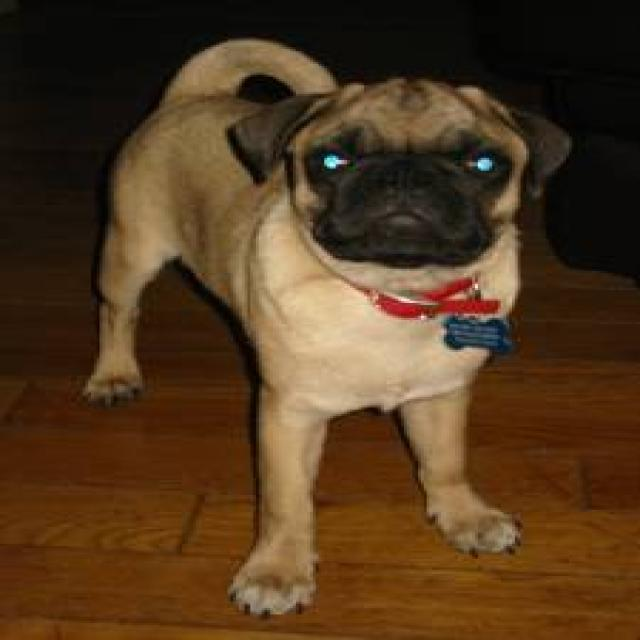dog-pug: (71, 26, 575, 627)
